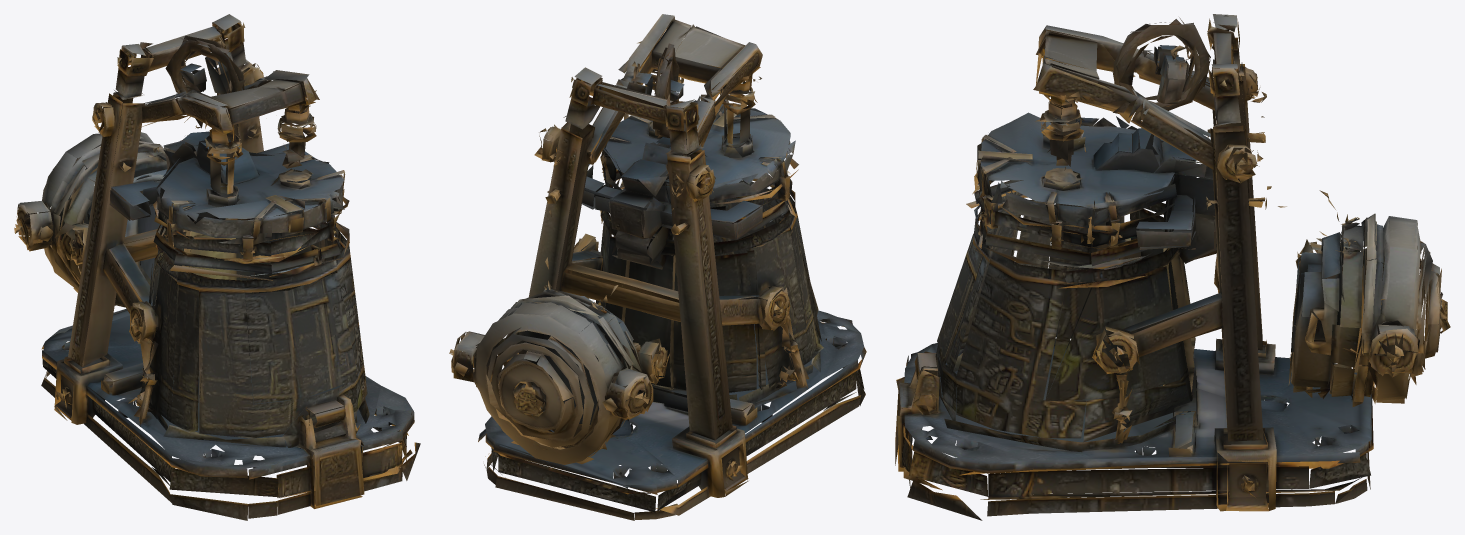
File: ch2_hydraulic_counterweight_machine_LOD2.glb
The picture shows the model from 3 angles, left to right: view 1: azimuth 30°, elevation 25°; view 2: azimuth 150°, elevation 25°; view 3: azimuth 270°, elevation 25°; orthographic projection. The views are drawn at different scales.
Parts seen in each view (by area): view 1: tripo_node_0e10ad17-c052-4b98-85d4-967bdcf32665; view 2: tripo_node_0e10ad17-c052-4b98-85d4-967bdcf32665; view 3: tripo_node_0e10ad17-c052-4b98-85d4-967bdcf32665.
Part boxes in pixels (x1,y1,x2,y2): tripo_node_0e10ad17-c052-4b98-85d4-967bdcf32665: [14, 14, 420, 520]; tripo_node_0e10ad17-c052-4b98-85d4-967bdcf32665: [449, 14, 866, 520]; tripo_node_0e10ad17-c052-4b98-85d4-967bdcf32665: [895, 14, 1450, 520].
Size of the model in its own units: 0.5908 by 0.8539 by 1.
1 material, 1 textured.
